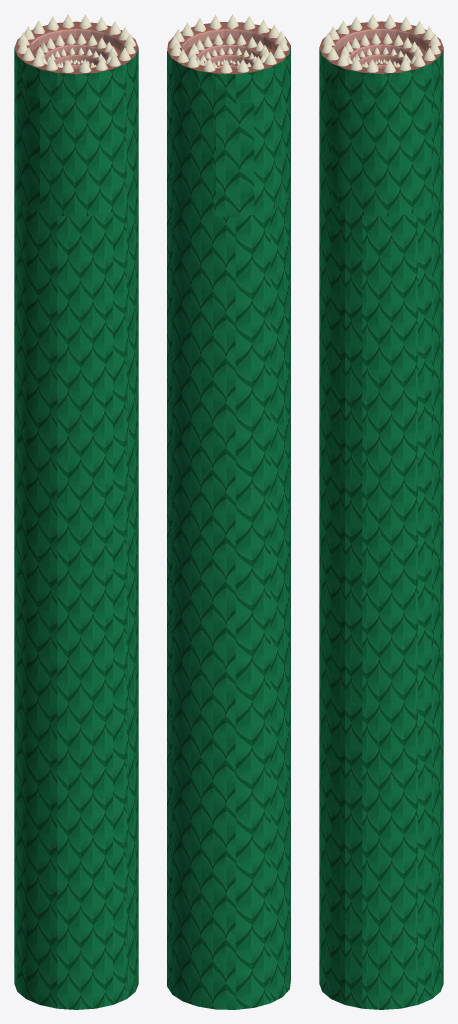
File: SpiderbodyLong.fbx
The picture shows the model from 3 angles, left to right: view 1: azimuth 90°, elevation 25°; view 2: azimuth 150°, elevation 25°; view 3: azimuth 270°, elevation 25°; orthographic projection.
Visible parts, largest first — view 1: Spiderbody; view 2: Spiderbody; view 3: Spiderbody.
Part boxes in pixels (x1,y1,x2,y2): Spiderbody: [14, 14, 138, 1009]; Spiderbody: [167, 14, 290, 1009]; Spiderbody: [319, 14, 443, 1009].
Size of the model in its own units: 2 by 16.8 by 2.
